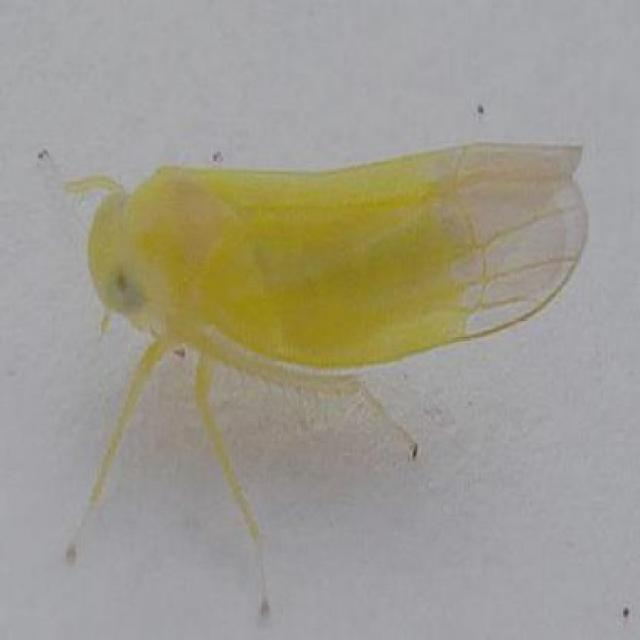green-leafhopper: (72, 88, 598, 410)
